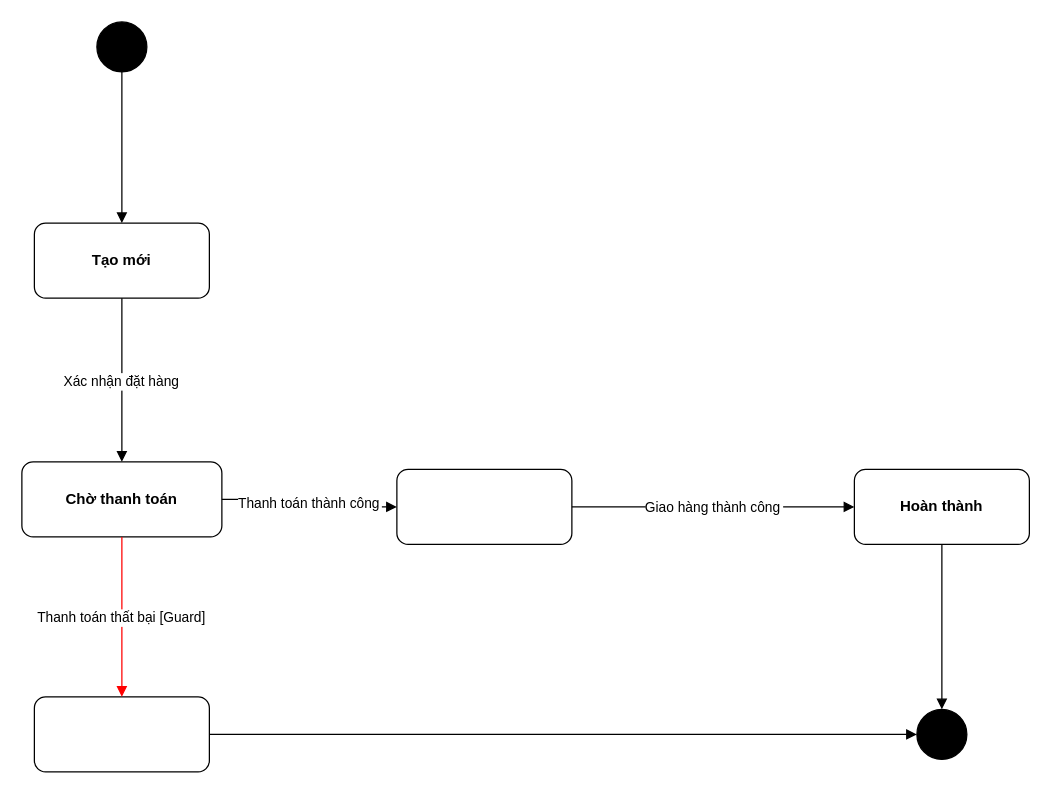
Image size: 1051x794. Some labels were removed from this diagram. The centre of each missing label's shape, as x and y in pixels:
"Hủy" belongs at point (121, 734).
"Đang giao" belongs at point (484, 506).
